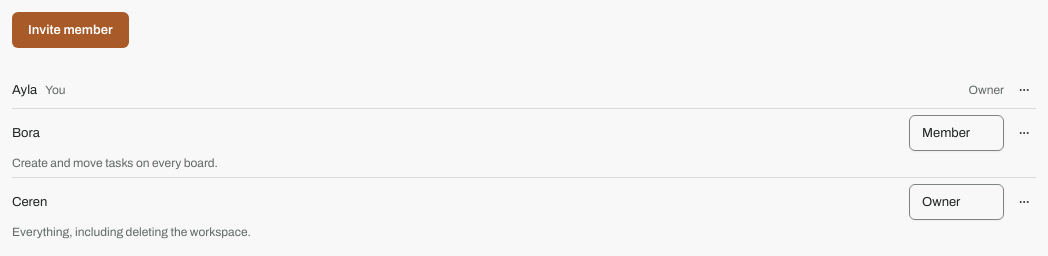
Scenario: MembersSettings — changing a role › shows the hint for the role the select is currently showing, under the control
Expected: the text "Bora" is shown, top-left (12, 124), bottom-right (40, 142)
Select "Admin" in the dropdown named "Role for Bora" at (956, 133), box top-left (909, 115), bottom-right (1004, 151)
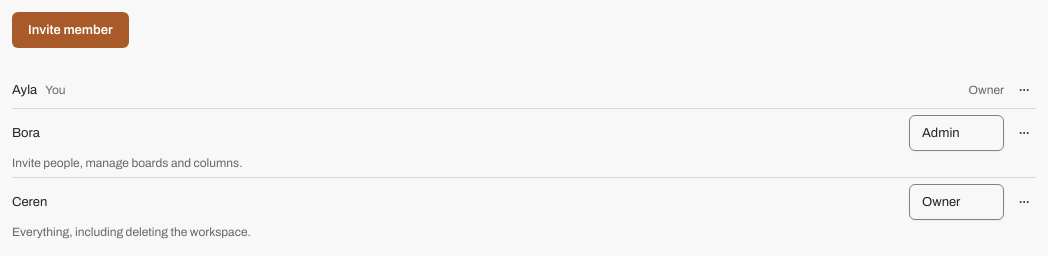
Expected: the text "Invite people, manage boards and columns." is shown, top-left (12, 156), bottom-right (242, 170)
